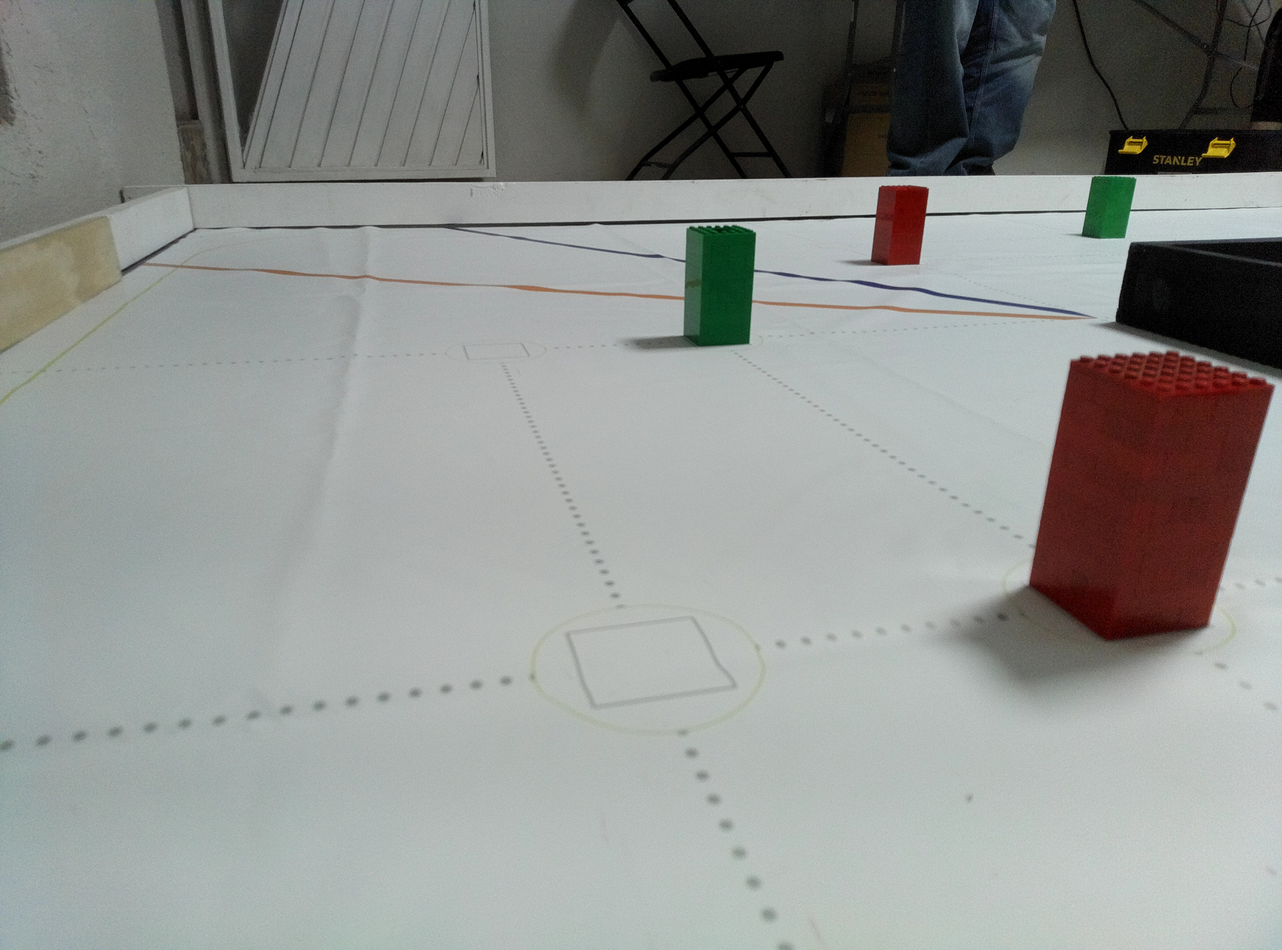greenbox: (681, 225, 758, 348), (1080, 175, 1138, 241)
redbox: (1026, 348, 1279, 642), (870, 184, 929, 267)
